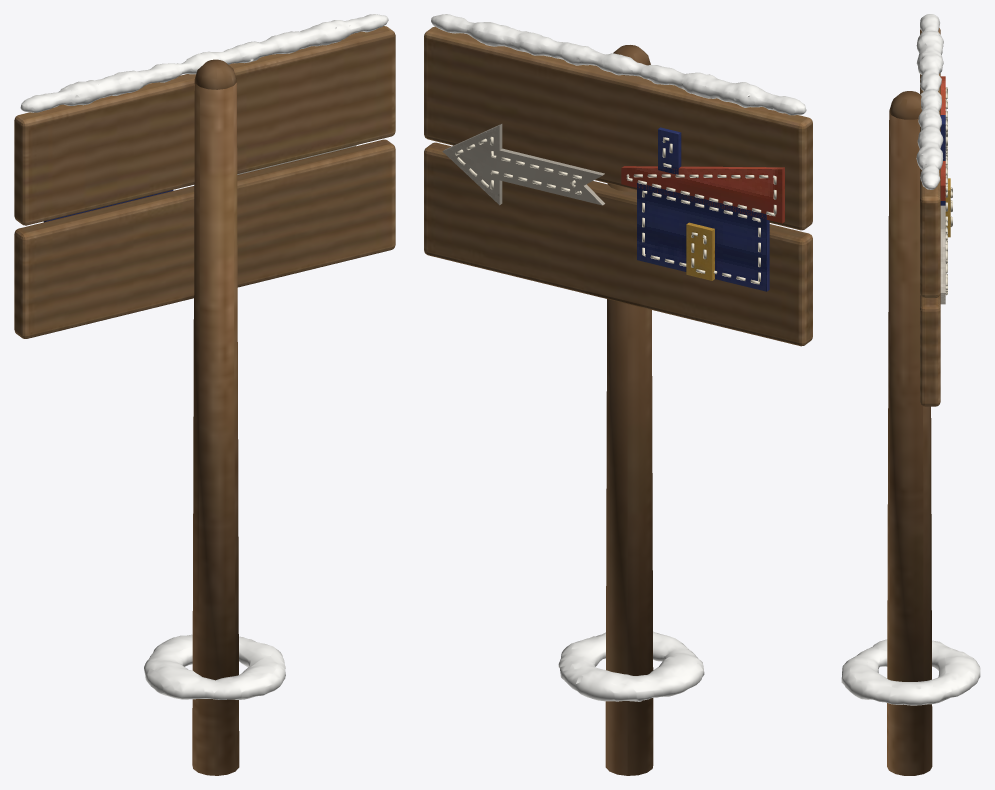
File: sign_lodge.glb
3 renders of one model, left to right at view 1: azimuth 30°, elevation 25°; view 2: azimuth 150°, elevation 25°; view 3: azimuth 270°, elevation 25°, orthographic. The views are drawn at different scales.
Parts seen in each view (by area): view 1: sign_lodge_board, sign_lodge_wood, sign_lodge_snow, sign_lodge_base; view 2: sign_lodge_board, sign_lodge_wood, sign_lodge_felt_navy2, sign_lodge_snow, sign_lodge_base, sign_lodge_felt_cream, sign_lodge_felt_red, sign_lodge_stitch, sign_lodge_felt_yellow; view 3: sign_lodge_wood, sign_lodge_base, sign_lodge_board, sign_lodge_snow, sign_lodge_stitch, sign_lodge_felt_cream, sign_lodge_felt_red.
Boxes of the visible parts, x1=… form: sign_lodge_board: x1=14, y1=26, x2=395, y2=338; sign_lodge_wood: x1=192, y1=59, x2=239, y2=775; sign_lodge_snow: x1=20, y1=14, x2=388, y2=112; sign_lodge_base: x1=144, y1=634, x2=285, y2=699; sign_lodge_board: x1=424, y1=26, x2=812, y2=346; sign_lodge_wood: x1=605, y1=45, x2=653, y2=775; sign_lodge_felt_navy2: x1=637, y1=127, x2=769, y2=291; sign_lodge_snow: x1=431, y1=14, x2=806, y2=115; sign_lodge_base: x1=558, y1=631, x2=704, y2=701; sign_lodge_felt_cream: x1=442, y1=124, x2=604, y2=205; sign_lodge_felt_red: x1=621, y1=166, x2=784, y2=223; sign_lodge_stitch: x1=455, y1=136, x2=776, y2=284; sign_lodge_felt_yellow: x1=686, y1=222, x2=714, y2=280; sign_lodge_wood: x1=887, y1=91, x2=932, y2=775; sign_lodge_base: x1=841, y1=639, x2=980, y2=705; sign_lodge_board: x1=920, y1=28, x2=940, y2=406; sign_lodge_snow: x1=916, y1=14, x2=943, y2=189; sign_lodge_stitch: x1=945, y1=87, x2=952, y2=295; sign_lodge_felt_cream: x1=940, y1=205, x2=945, y2=304; sign_lodge_felt_red: x1=940, y1=76, x2=945, y2=200.
Size of the model in its own units: 1 by 1.8 by 0.3365.
9 materials, 6 textured.
